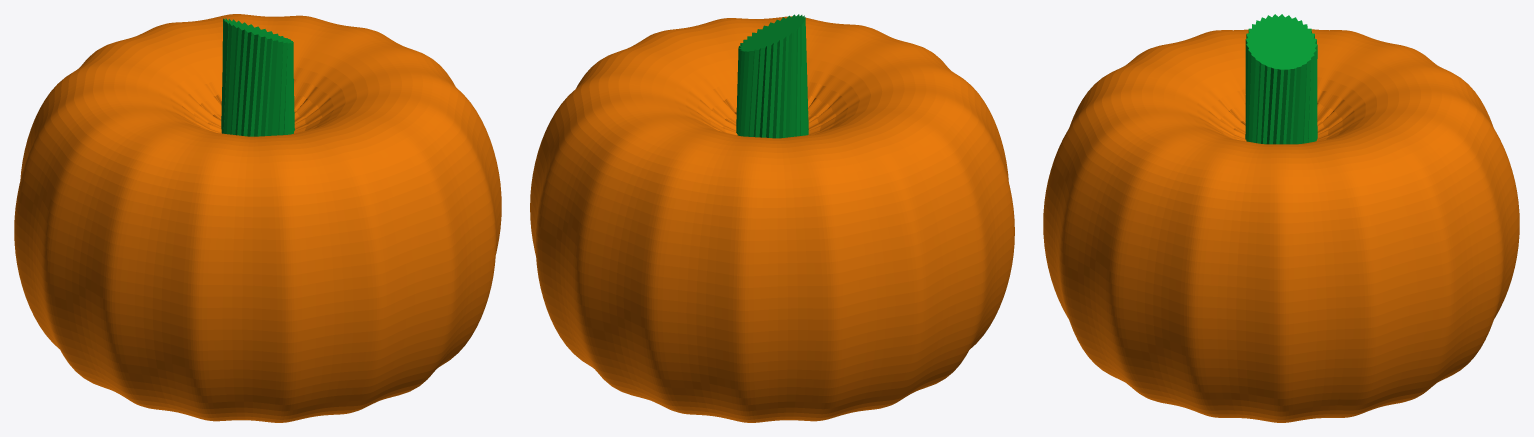
Rendered from pumpkin obstacle.fbx.
3 renders of one model, left to right at view 1: azimuth 30°, elevation 25°; view 2: azimuth 150°, elevation 25°; view 3: azimuth 270°, elevation 25°, orthographic. The views are drawn at different scales.
Parts seen in each view (by area): view 1: Sphere, Cylinder; view 2: Sphere, Cylinder; view 3: Sphere, Cylinder.
Boxes of the visible parts, x1,y1,x2,y2 form: Sphere: (14,14,501,422); Cylinder: (221,18,294,136); Sphere: (530,16,1014,422); Cylinder: (736,14,808,138); Sphere: (1043,29,1519,422); Cylinder: (1245,14,1317,144).
Bounding box in the file's own units: 179 × 135 × 179.
